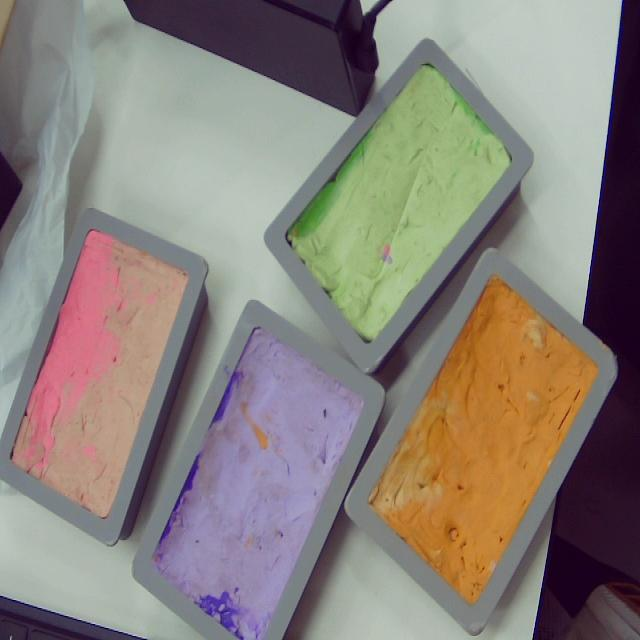block: (341, 251, 618, 640), (265, 39, 536, 376), (131, 299, 382, 640), (0, 204, 211, 548)
